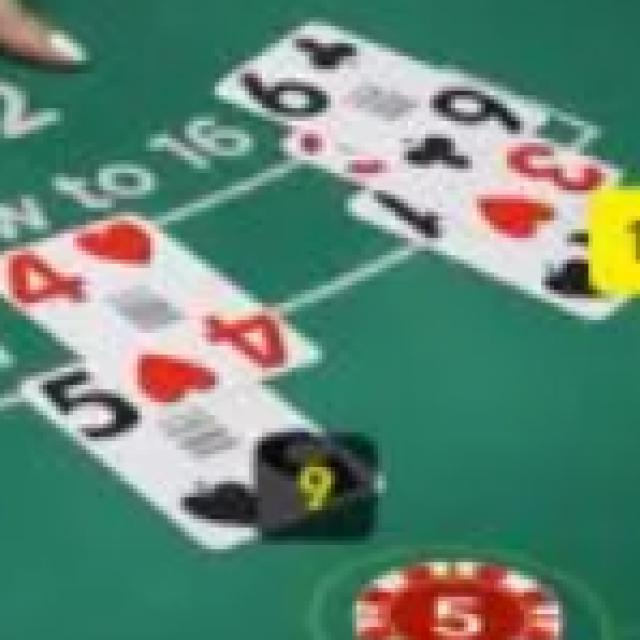Card-3: (278, 126, 624, 261)
Card-4: (0, 208, 323, 417)
Card-5: (19, 360, 384, 553)
Card-6: (214, 18, 548, 188)
Card-A: (345, 188, 626, 319)
